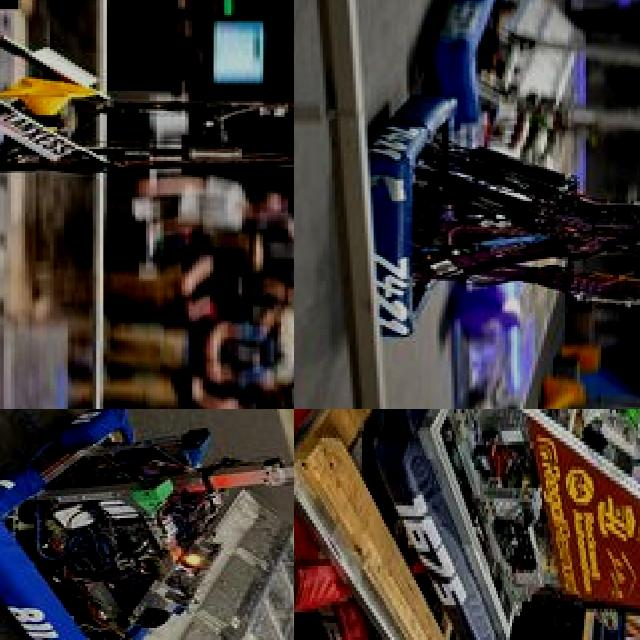FRC-Robots: (0, 0, 294, 255), (355, 95, 640, 350), (0, 409, 294, 640), (385, 409, 640, 640), (426, 0, 462, 11)
